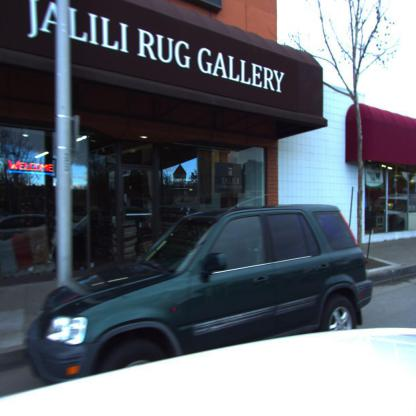car: (20, 206, 383, 388)
